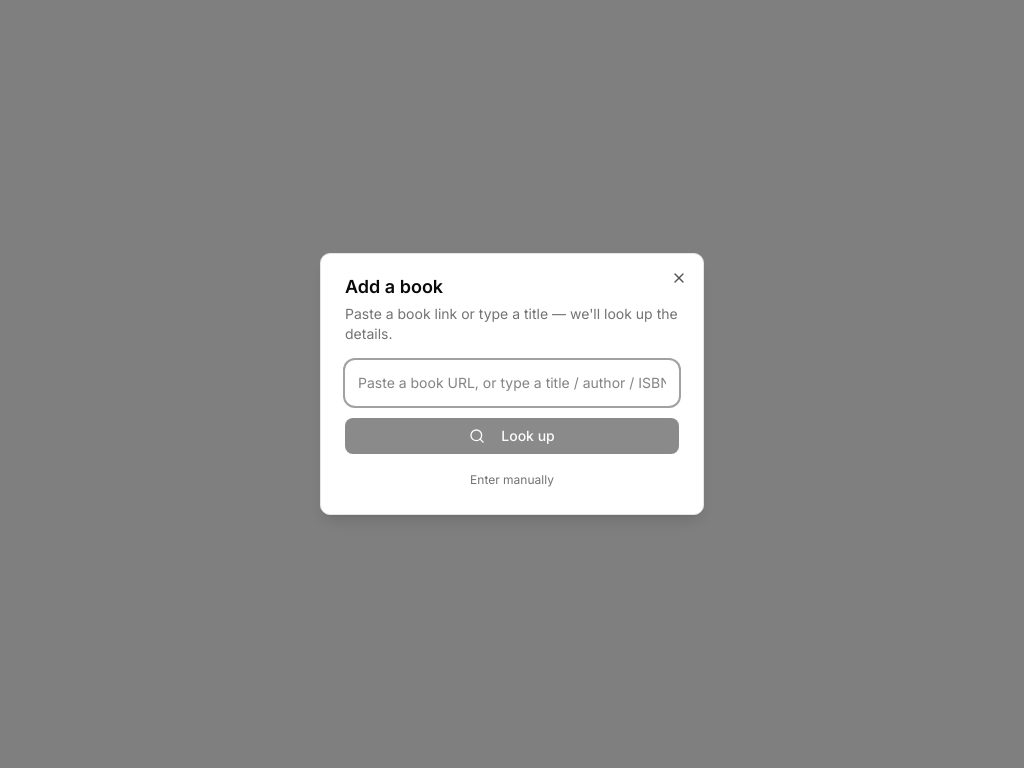
Test: AddBookDialog › reveals a pre-filled form (Goodreads default) on low confidence
The image size is (1024, 768).
Type "maybe book" into the field with placeholder "Paste a book URL, or type a title / author / ISBN" at [512, 383], box [345,360,679,406]
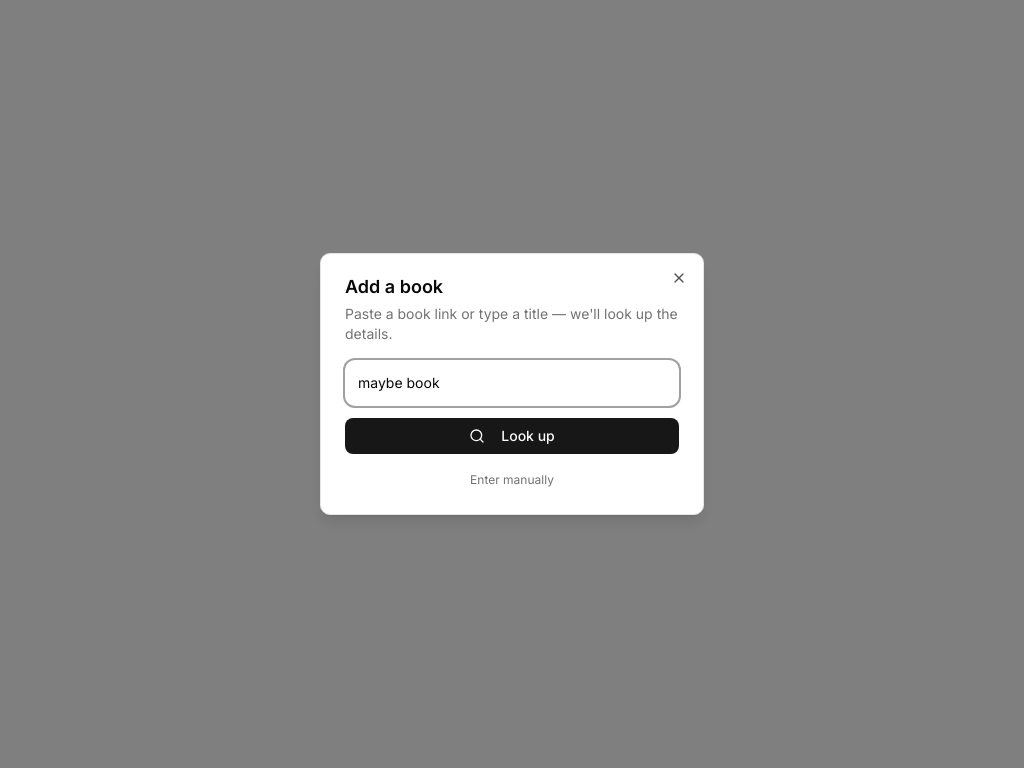
Click the button "Look up" at [512, 436], box [345,418,679,454]
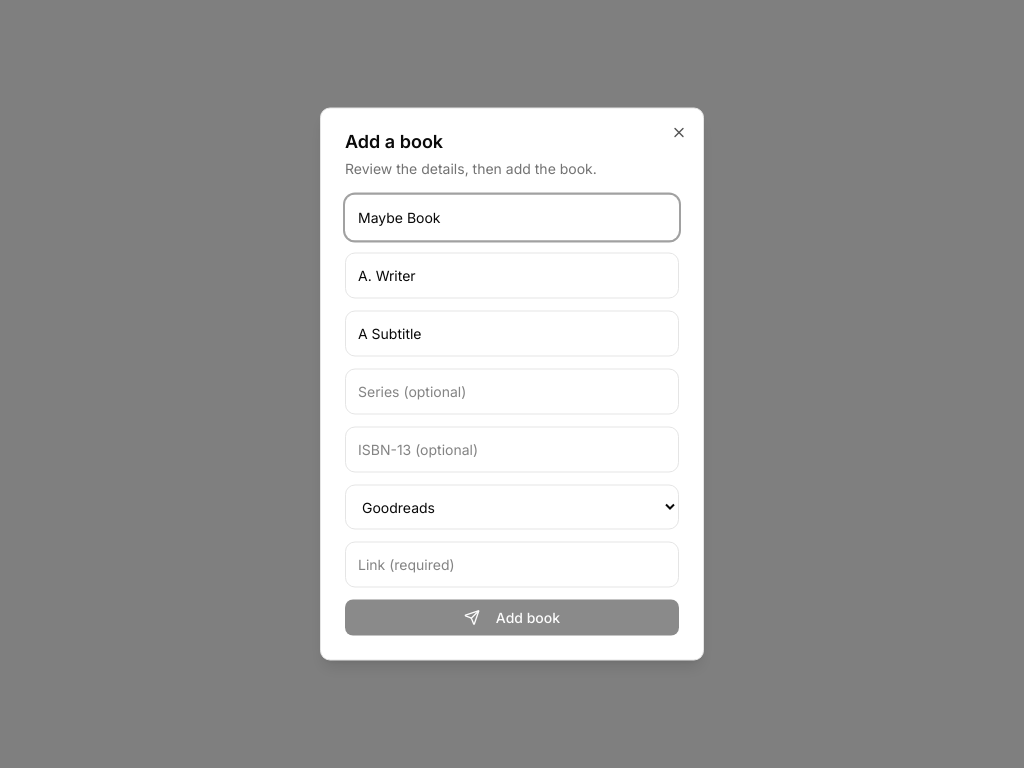
Expected: the 1st field with placeholder "Title" holds "Maybe Book", [345,194,679,240]
Expected: the 2nd field with placeholder "Author" holds "A. Writer", [345,252,679,298]
Expected: the dropdown shows "Goodreads", [345,484,679,530]
